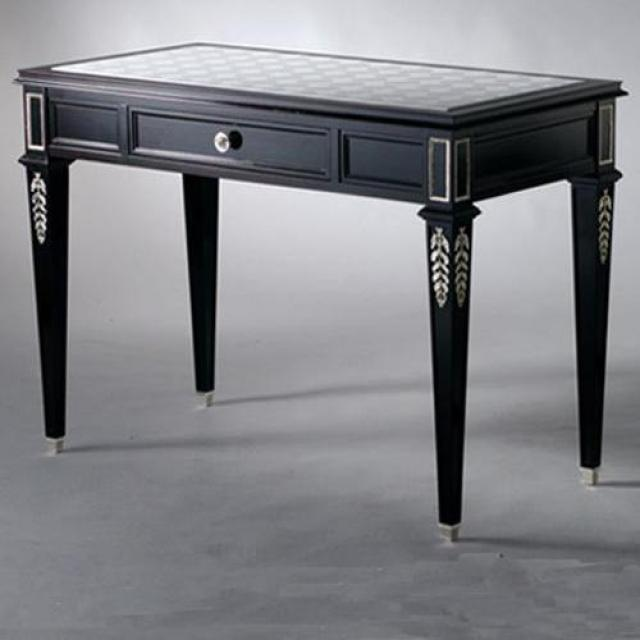table: (18, 45, 625, 538)
